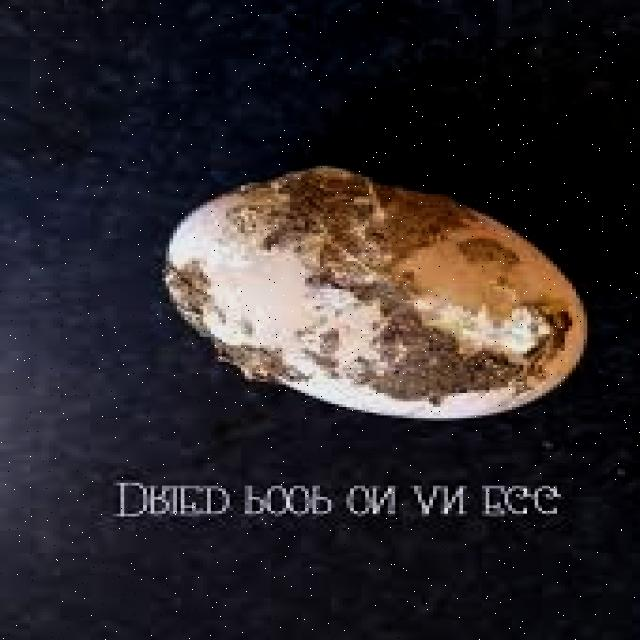Dirt Stained Egg: (131, 142, 586, 412)
